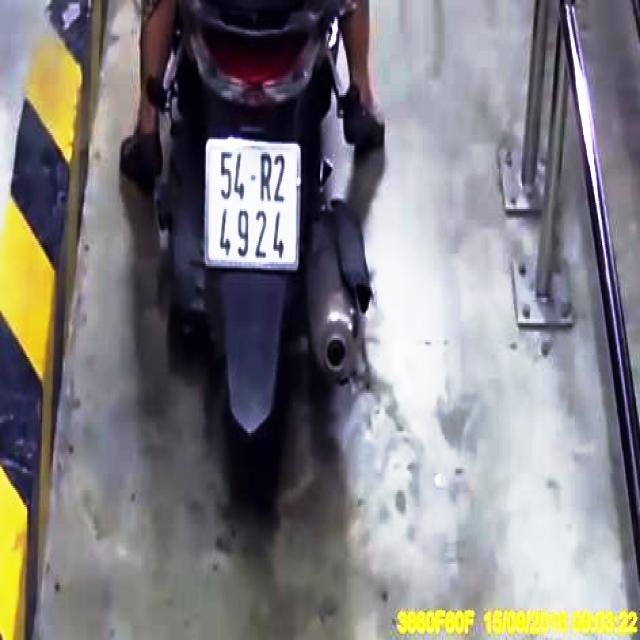license_plate: (206, 141, 301, 271)
